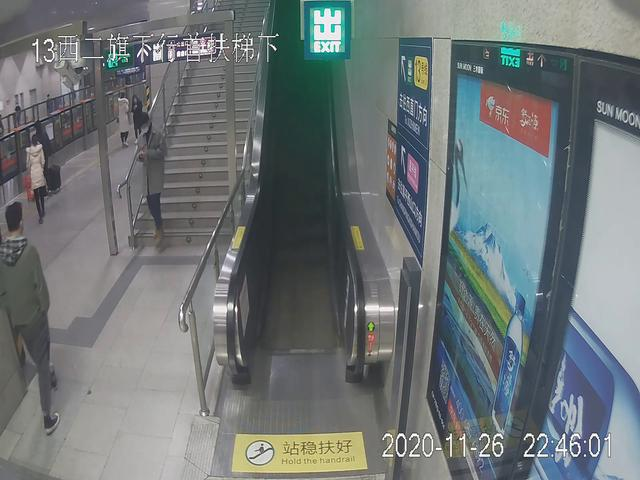person: (3, 197, 59, 435), (134, 113, 164, 257), (27, 132, 47, 221), (117, 91, 128, 149)
